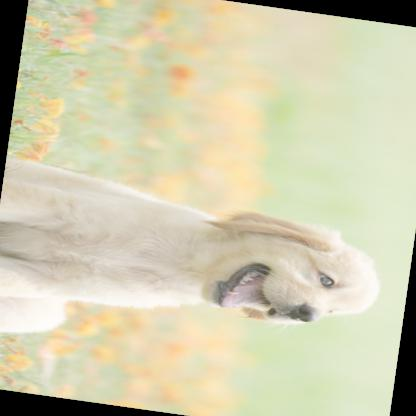DOG: (0, 159, 390, 406)
